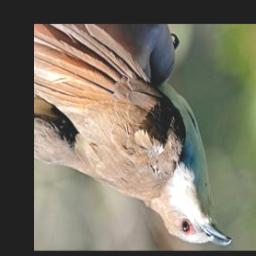Cuckoo: (34, 24, 232, 245)
